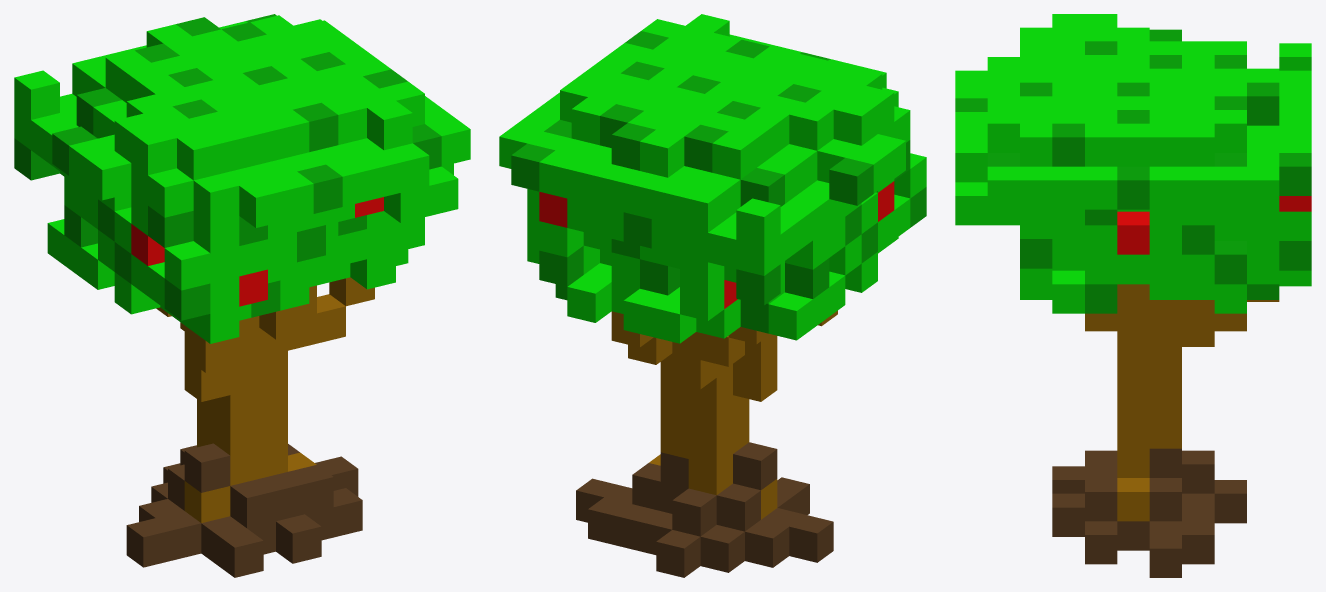
Rendered from Tree1.obj.
3 views of the same model, side by side, from view 1: azimuth 30°, elevation 25°; view 2: azimuth 150°, elevation 25°; view 3: azimuth 270°, elevation 25° (orthographic). The views are drawn at different scales.
Size of the model in its own units: 1.1 by 1.5 by 1.1.
Materials: 1 (1 with a texture image).
